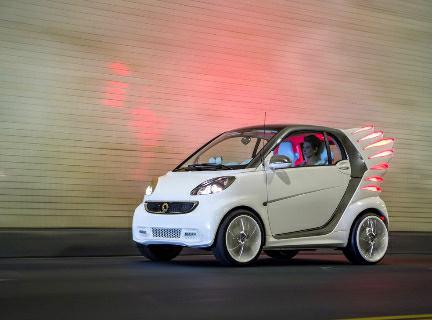smart-forjeremy: (137, 122, 387, 265)
